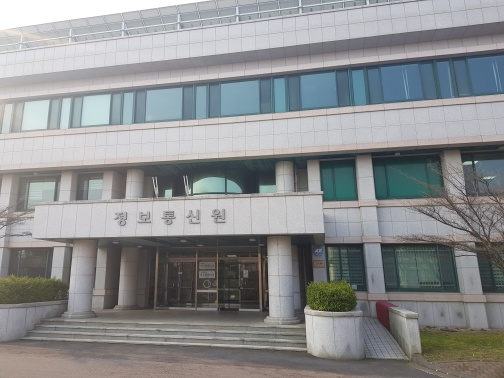Information Telecommunication Center: (1, 18, 503, 327), (91, 107, 273, 321), (149, 248, 265, 313), (104, 197, 267, 235)
